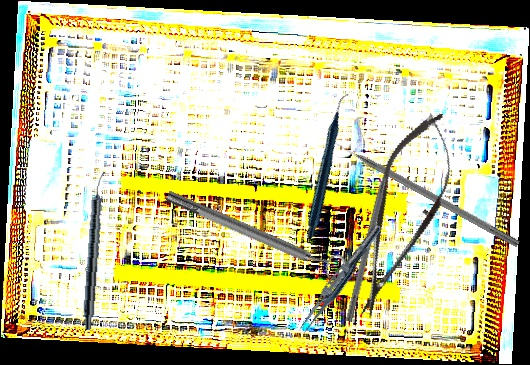Fixation Ring: (162, 180, 348, 286)
Handpiece: (253, 92, 405, 240), (81, 170, 108, 331)
Hook Surgical: (331, 136, 522, 248), (344, 148, 397, 323)
Micro Scissor: (334, 101, 472, 329)
Tissue Forceps: (294, 220, 385, 339)
